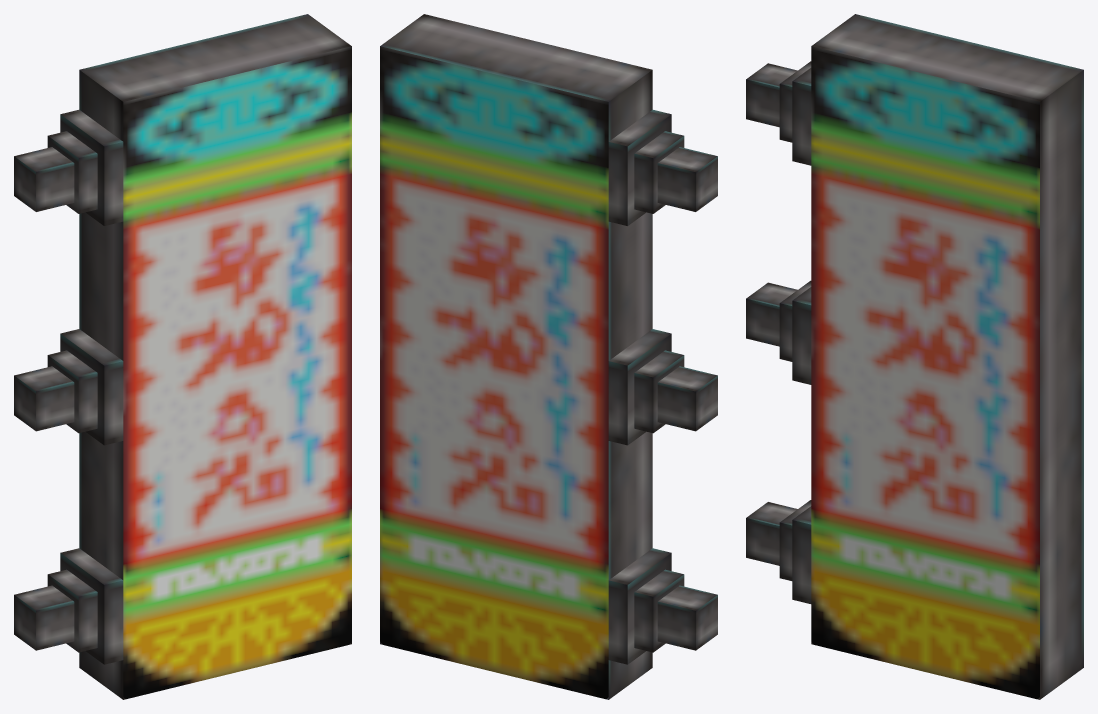
Rendered from Poly_SF_Outside_B_Board_Neo_Sign_12.obj.
The picture shows the model from 3 angles, left to right: view 1: azimuth 30°, elevation 25°; view 2: azimuth 150°, elevation 25°; view 3: azimuth 330°, elevation 25°; orthographic projection.
Parts seen in each view (by area): view 1: Cube, Cube.001; view 2: Cube, Cube.001; view 3: Cube, Cube.001.
Part boxes in pixels (x1,y1,x2,y2): Cube: (79,14,351,699); Cube.001: (14,109,123,664); Cube: (380,14,652,699); Cube.001: (608,109,717,664); Cube: (811,14,1083,699); Cube.001: (746,61,811,603).
Size of the model in its own units: 0.8 by 1.5 by 0.2.
Materials: 1 (1 with a texture image).
